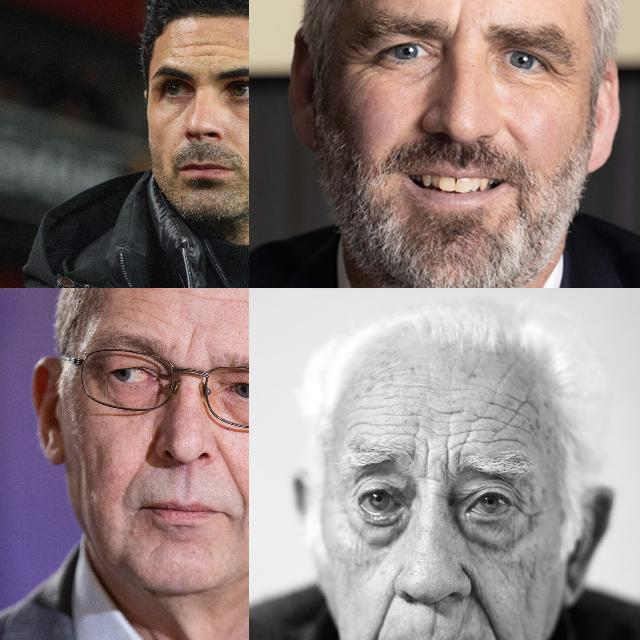crows_feet: (348, 54, 374, 88), (551, 64, 575, 92)
forehead: (171, 288, 249, 309), (174, 39, 242, 61), (465, 419, 507, 448), (123, 292, 161, 322), (392, 406, 426, 438), (434, 406, 464, 440), (507, 388, 537, 422), (348, 415, 382, 437)
frown_line: (178, 324, 204, 364), (449, 5, 469, 45), (439, 446, 457, 482), (417, 442, 435, 476)
gummy_smile: (466, 578, 506, 640), (216, 434, 249, 503), (371, 581, 398, 640), (122, 454, 148, 504), (504, 122, 526, 152)
